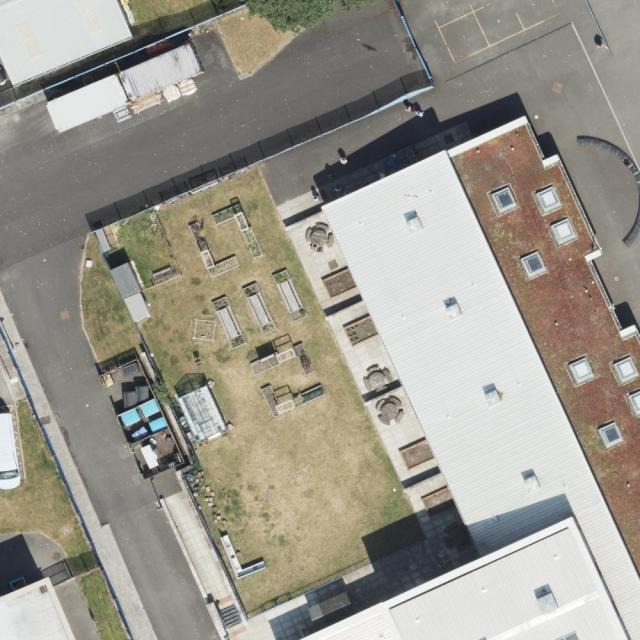roof: (295, 113, 640, 640), (0, 0, 132, 87), (0, 576, 75, 640)
skylight: (566, 352, 597, 386), (486, 182, 517, 215), (519, 247, 549, 280), (533, 182, 565, 212), (547, 217, 579, 247), (611, 355, 639, 386), (598, 420, 626, 451), (628, 389, 640, 419)
